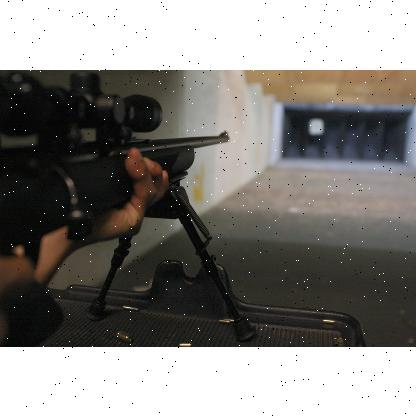gun: (0, 69, 253, 338)
